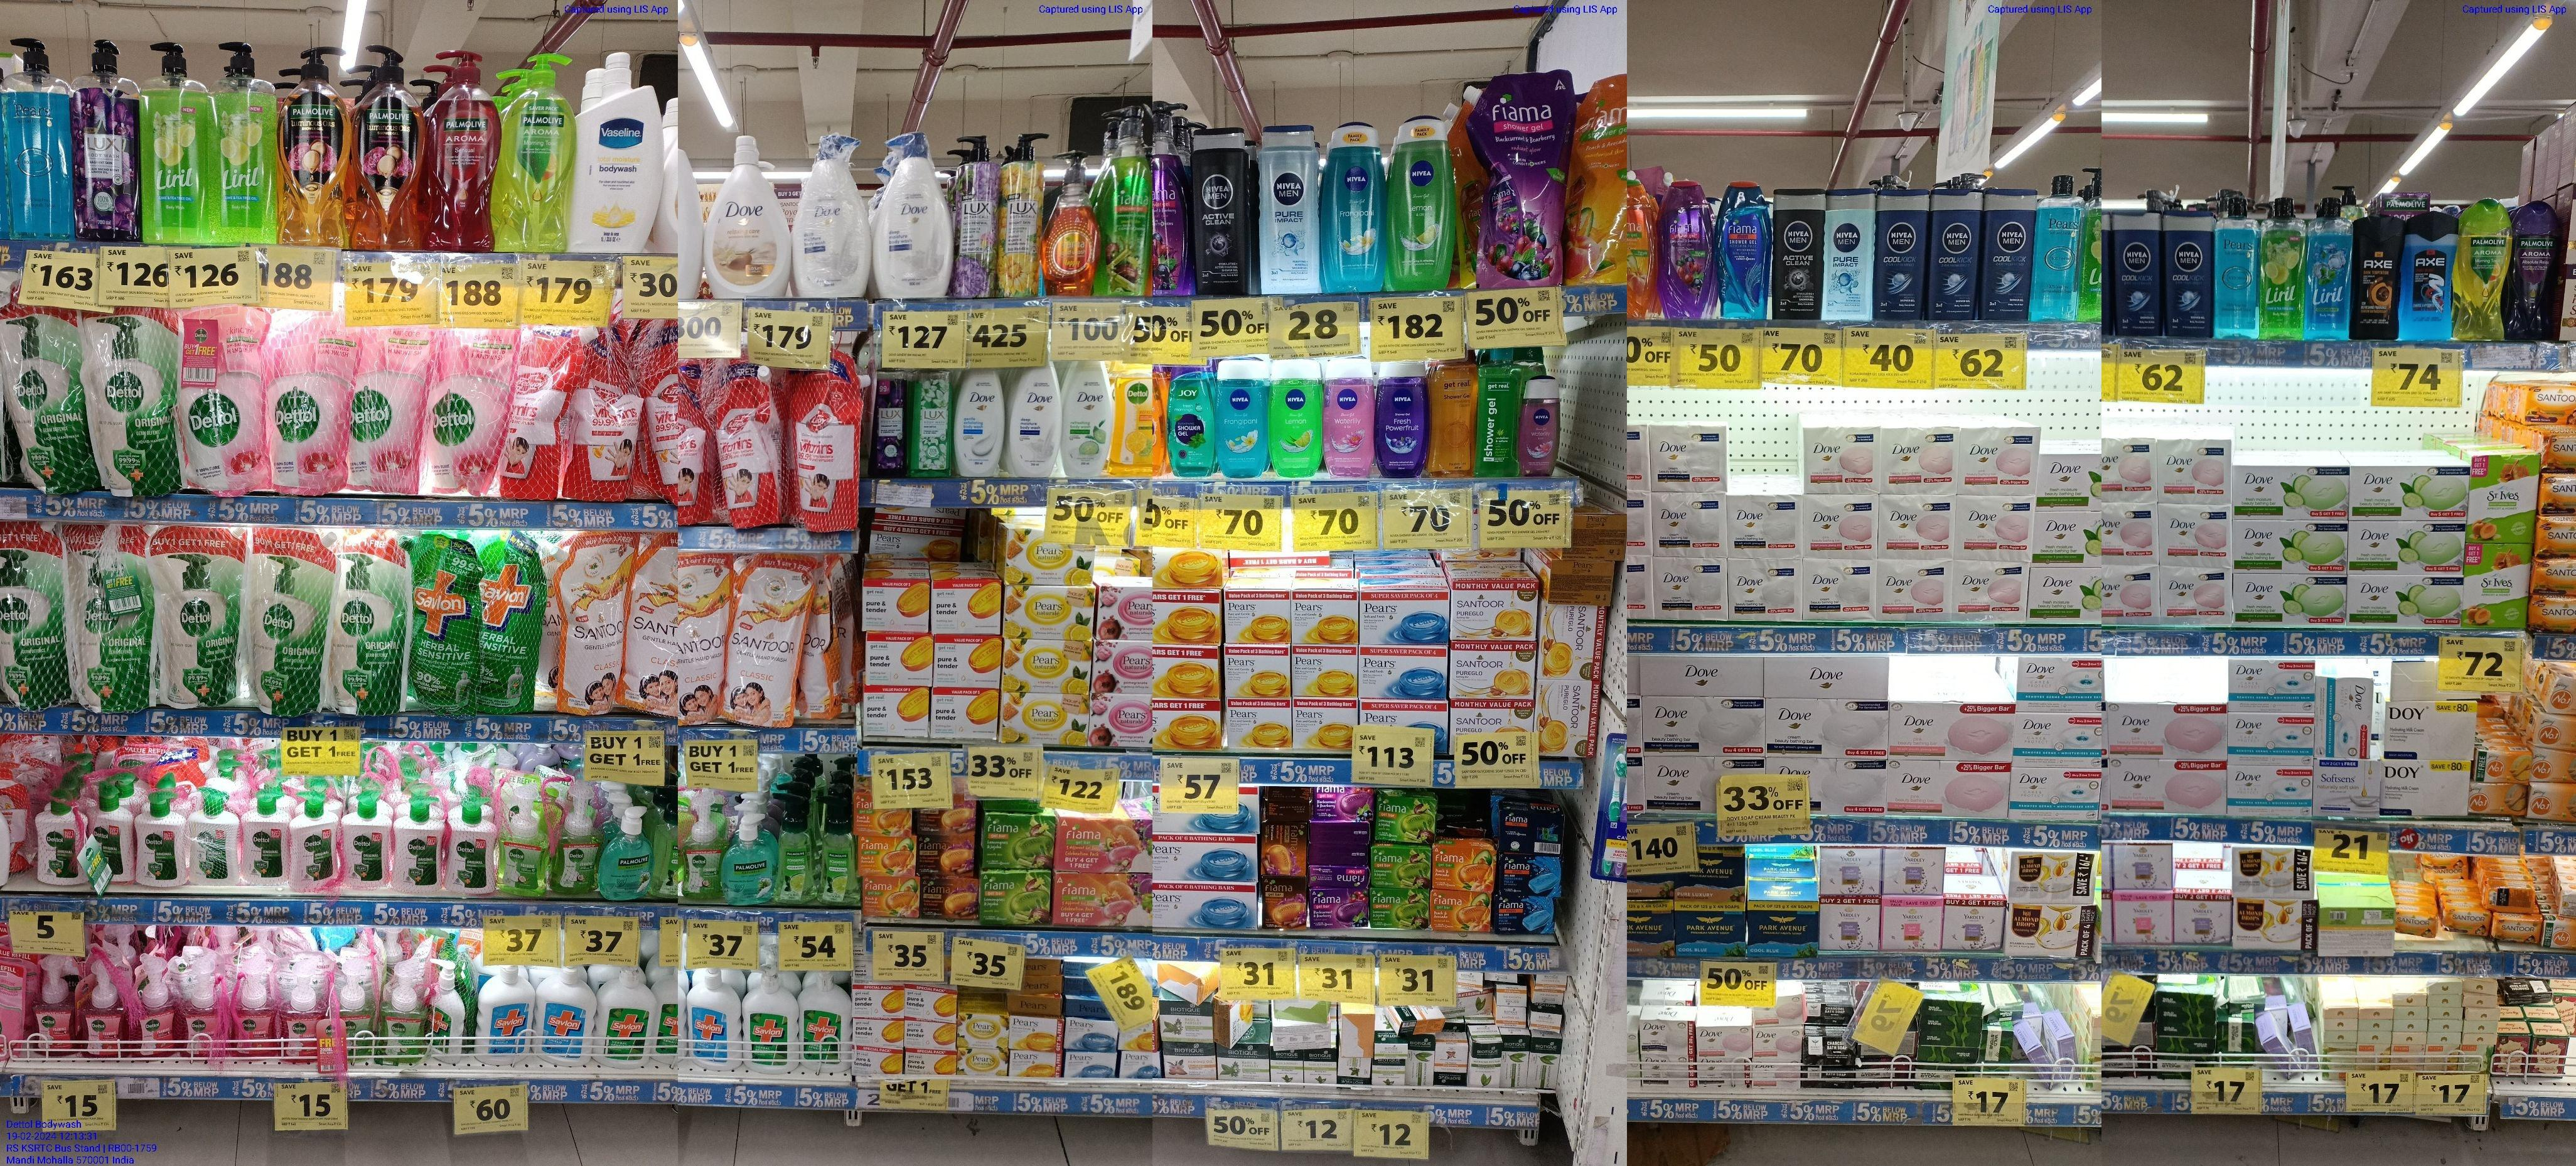Dove_Deep_Moisture_Body_Wash_250ML: (1012, 360, 1063, 477)
Dove_Gentle_Exfoliating_Body_Wash_250ML: (956, 363, 1010, 475)
Dove_Refreshing_Body_Wash_250ML: (1063, 360, 1111, 480)
Joy_Shower_Gel_Mint_and_Eucalyptus_250ML: (1170, 368, 1214, 475)
Nivea_Shower_Gel_Frangipani_and_Oil_250ML: (1214, 355, 1270, 475)
Nivea_Shower_Gel_Fresh_Powerfruit_250ML: (1377, 357, 1428, 480)
Nivea_Shower_Gel_Lemon_and_Oil_250ML: (1272, 362, 1321, 479)
Nivea_Shower_Gel_Waterlily_and_Oil_250ML: (1324, 357, 1375, 474), (1520, 377, 1561, 474)
